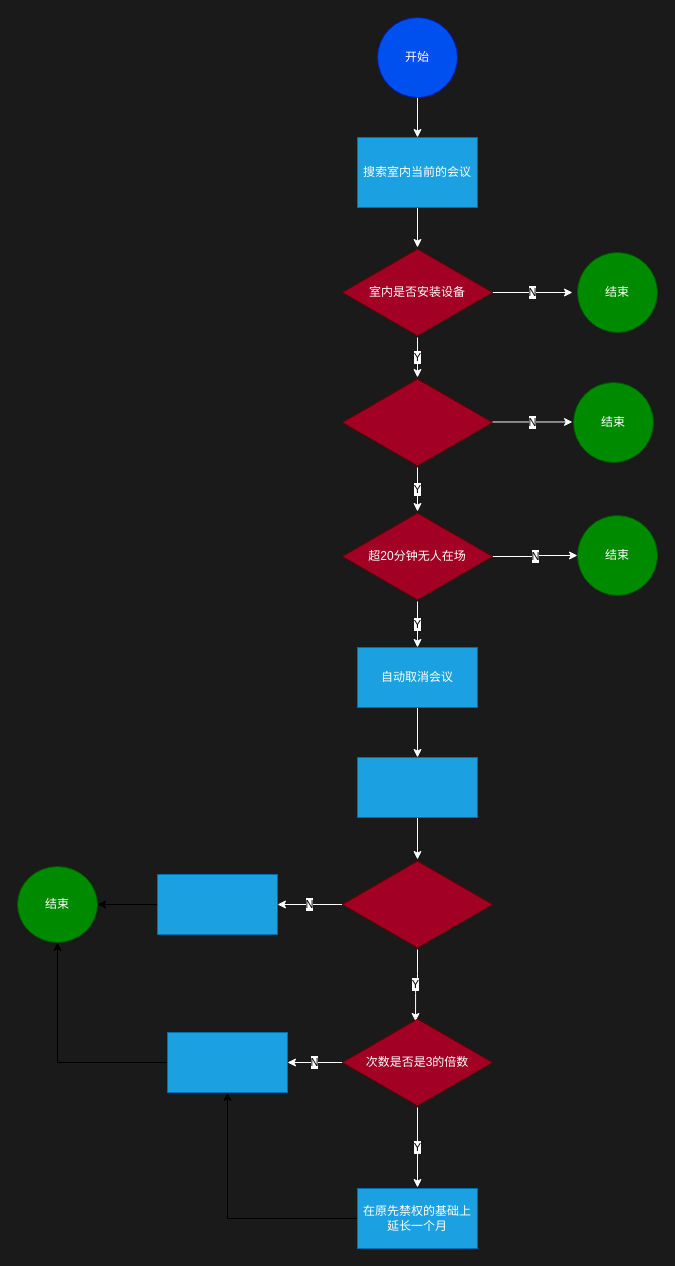
This 675x1266 diagram has some shape labels left out. The shapes that lost their labels are listed below. From the top down, each one's box as (x1, y1, x2, y2) in pixels, then its label:
(342, 376, 492, 468): 会议是否超20分钟
(356, 756, 478, 818): 记录预订人违规一次
(156, 874, 278, 934): 通知会议被取消并记录违规一次
(342, 858, 492, 950): 是否超过三次违规
(166, 1032, 288, 1092): 提示被禁权期限和违规总次数
